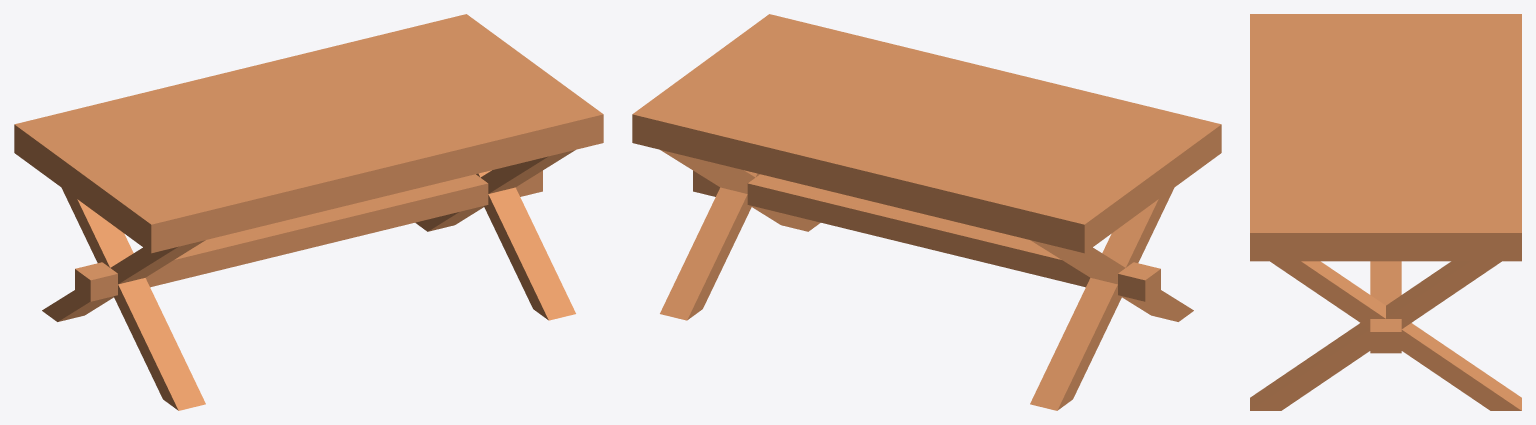
Rendered from tableCross.fbx.
3 renders of one model, left to right at view 1: azimuth 30°, elevation 25°; view 2: azimuth 150°, elevation 25°; view 3: azimuth 270°, elevation 25°, orthographic.
Visible parts, largest first — view 1: tableCross; view 2: tableCross; view 3: tableCross.
Boxes of the visible parts, left/top/right/bottom form: tableCross: left=14, top=14, right=603, bottom=410; tableCross: left=632, top=14, right=1221, bottom=410; tableCross: left=1250, top=14, right=1521, bottom=410.
Bounding box in the file's own units: 8.52 × 3.47 × 4.47.
